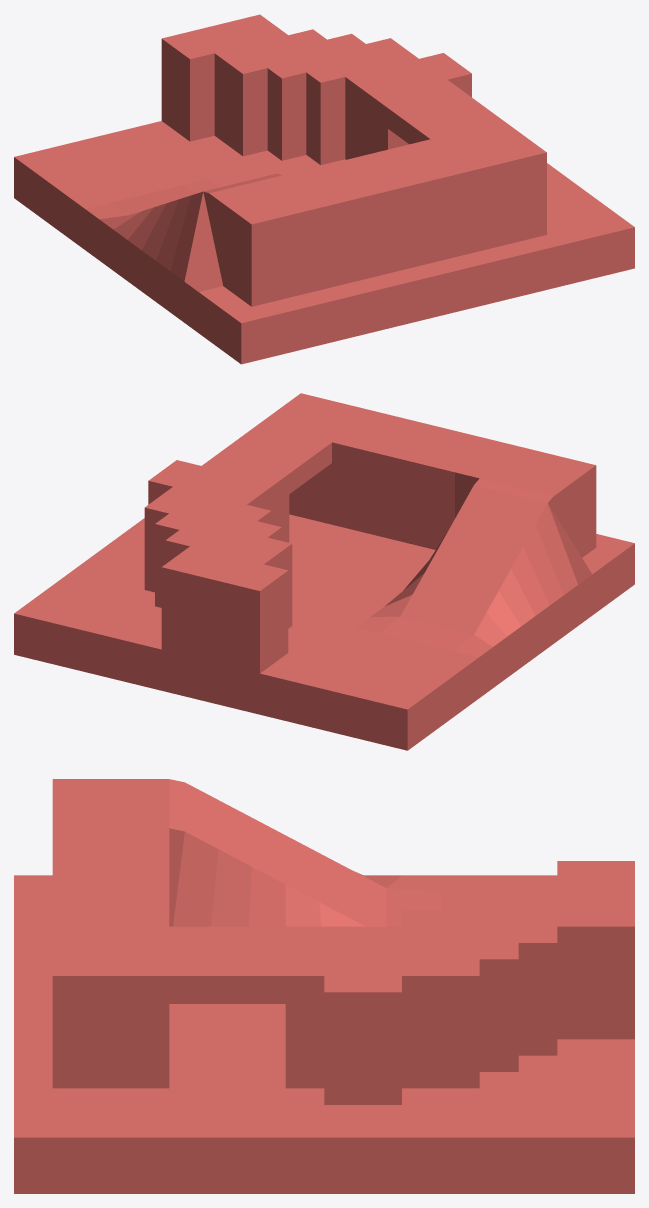
Rendered from map-81a108d2.glb.
The picture shows the model from 3 angles, top to bottom: view 1: azimuth 30°, elevation 25°; view 2: azimuth 150°, elevation 25°; view 3: azimuth 270°, elevation 25°; orthographic projection. The views are drawn at different scales.
Parts seen in each view (by area): view 1: Cube; view 2: Cube; view 3: Cube.
Part boxes in pixels (x1=…): Cube: x1=14, y1=14, x2=634, y2=364; Cube: x1=14, y1=393, x2=634, y2=750; Cube: x1=14, y1=779, x2=634, y2=1193.
Bounding box in the file's own units: 20 × 6 × 20.
